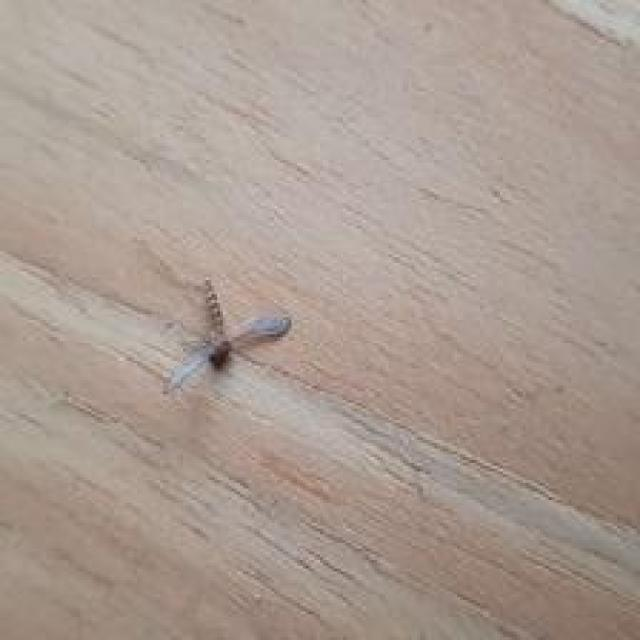Culex: (160, 276, 291, 396)
